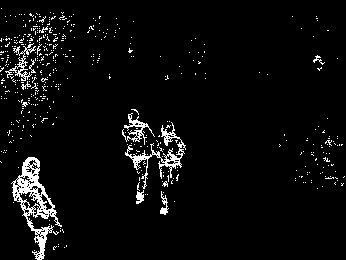person: (12, 150, 64, 260), (116, 105, 158, 207), (159, 115, 187, 215)
